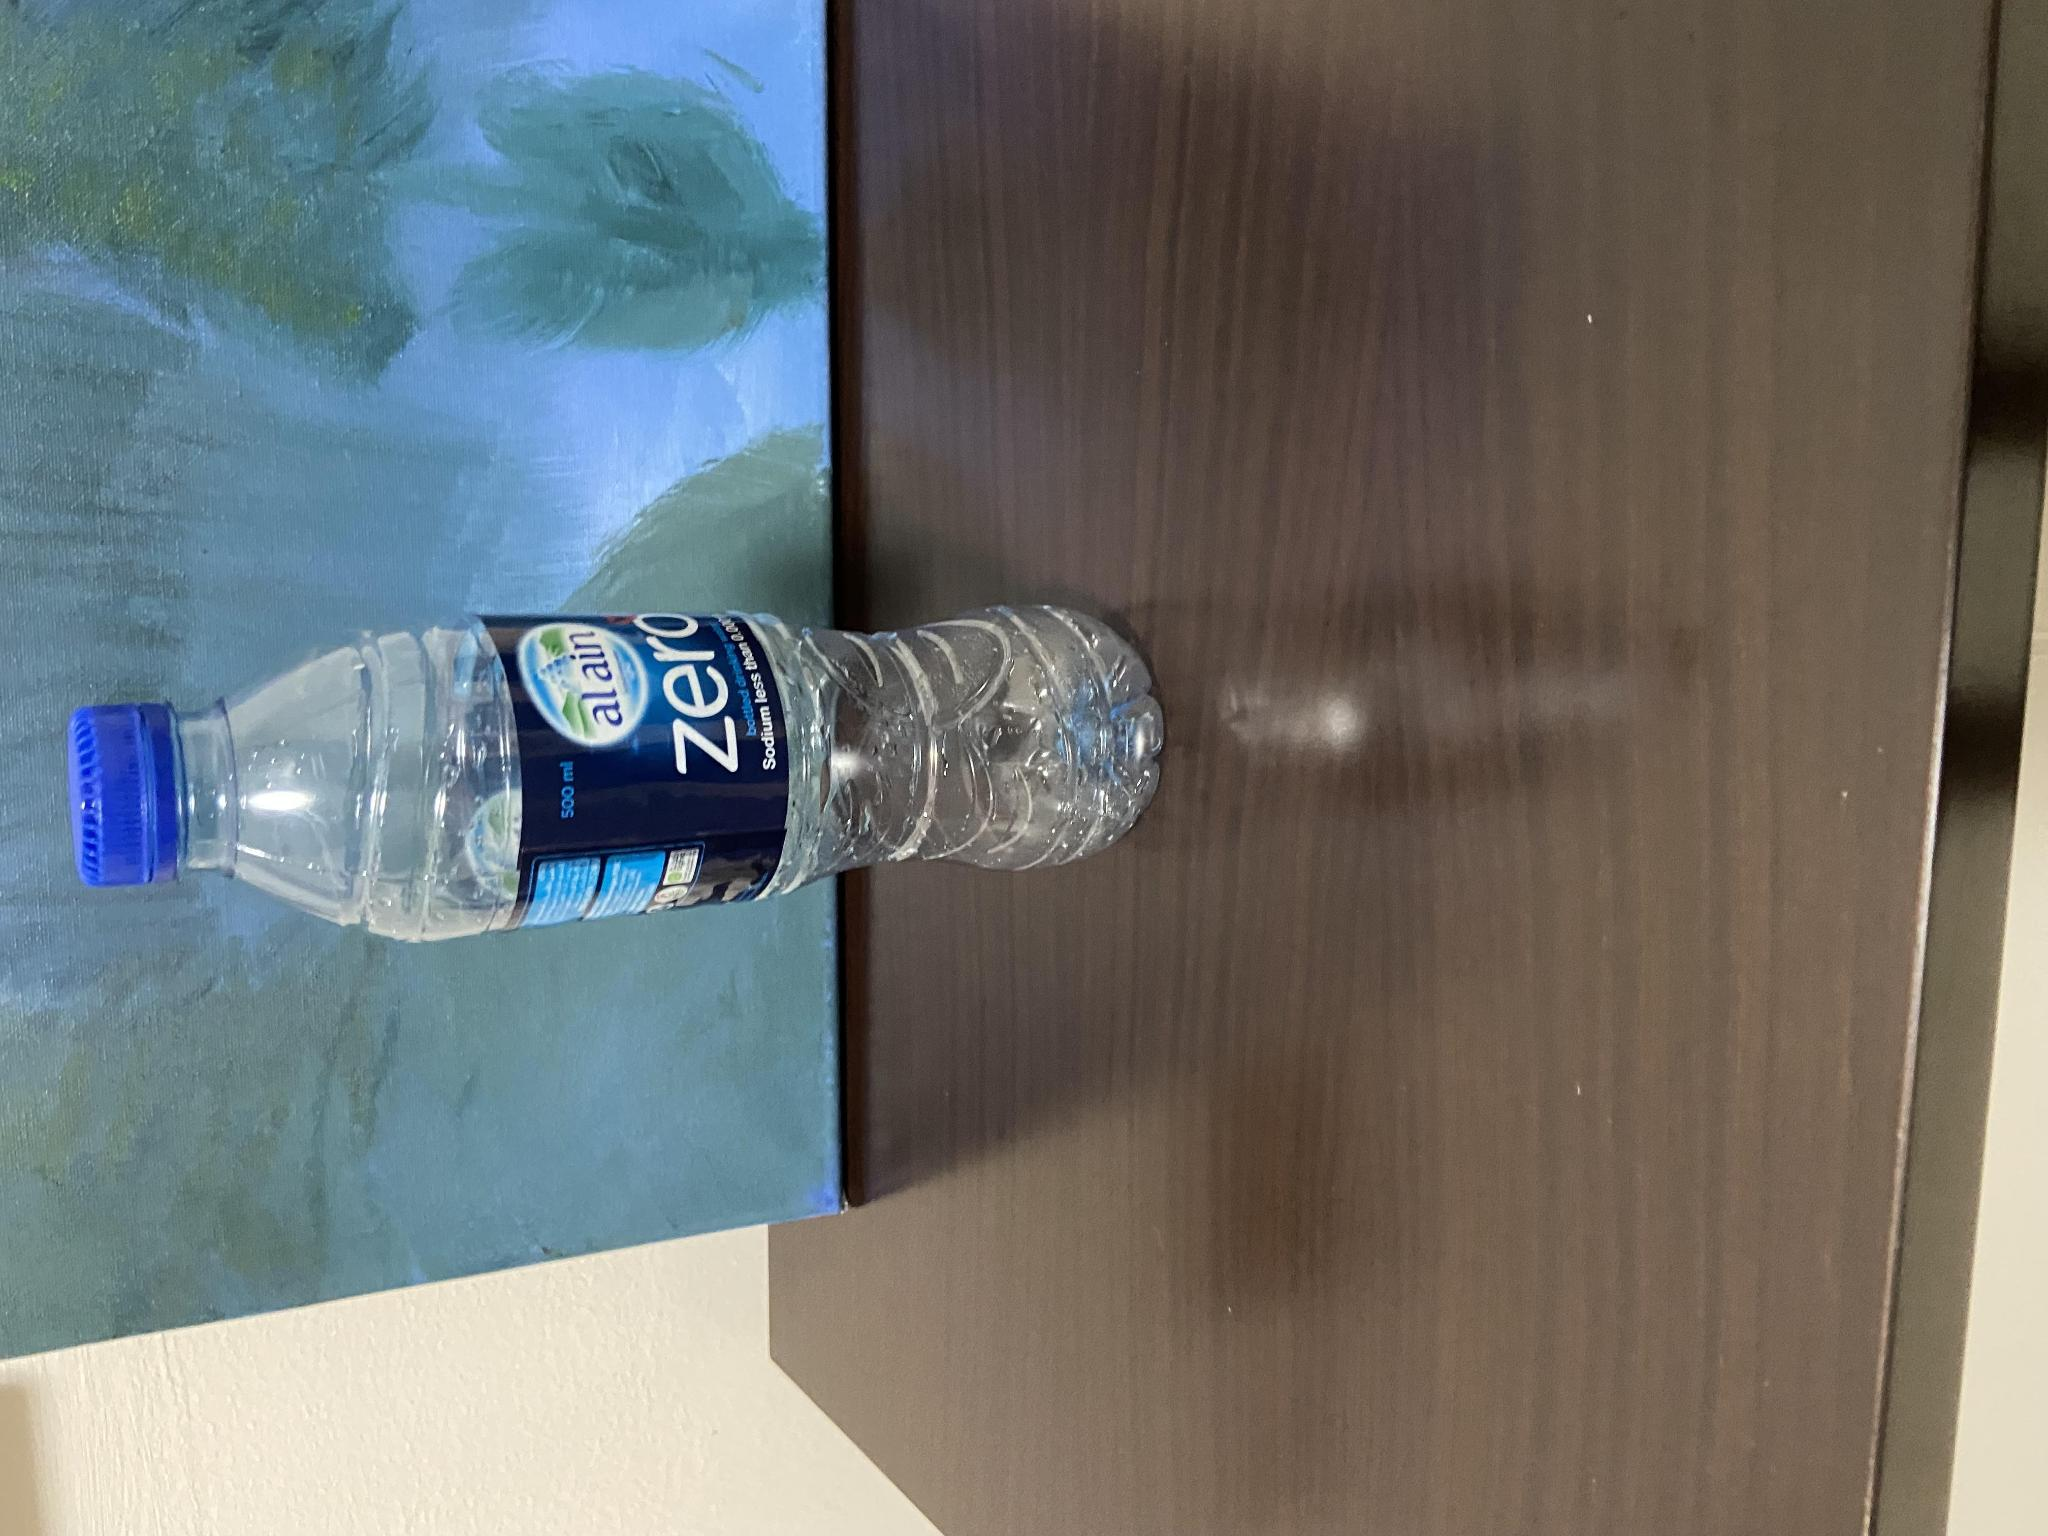bottle: (56, 574, 1211, 992)
